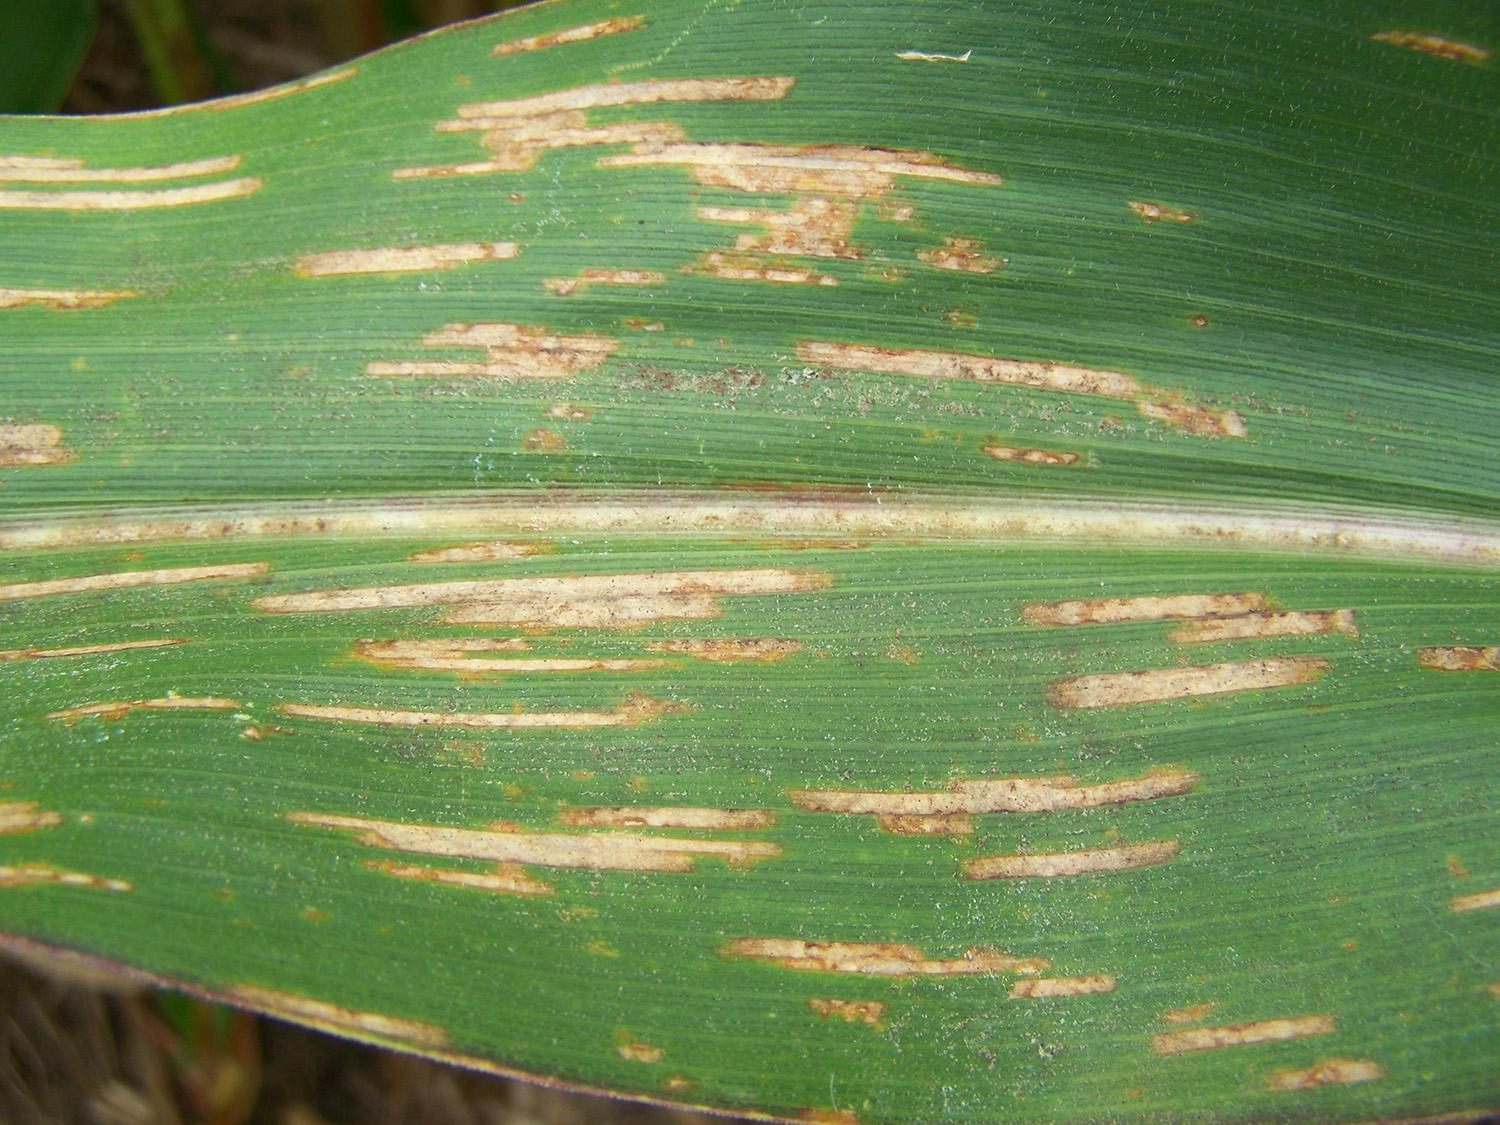Corn leaf blight: (7, 30, 1499, 1095)
